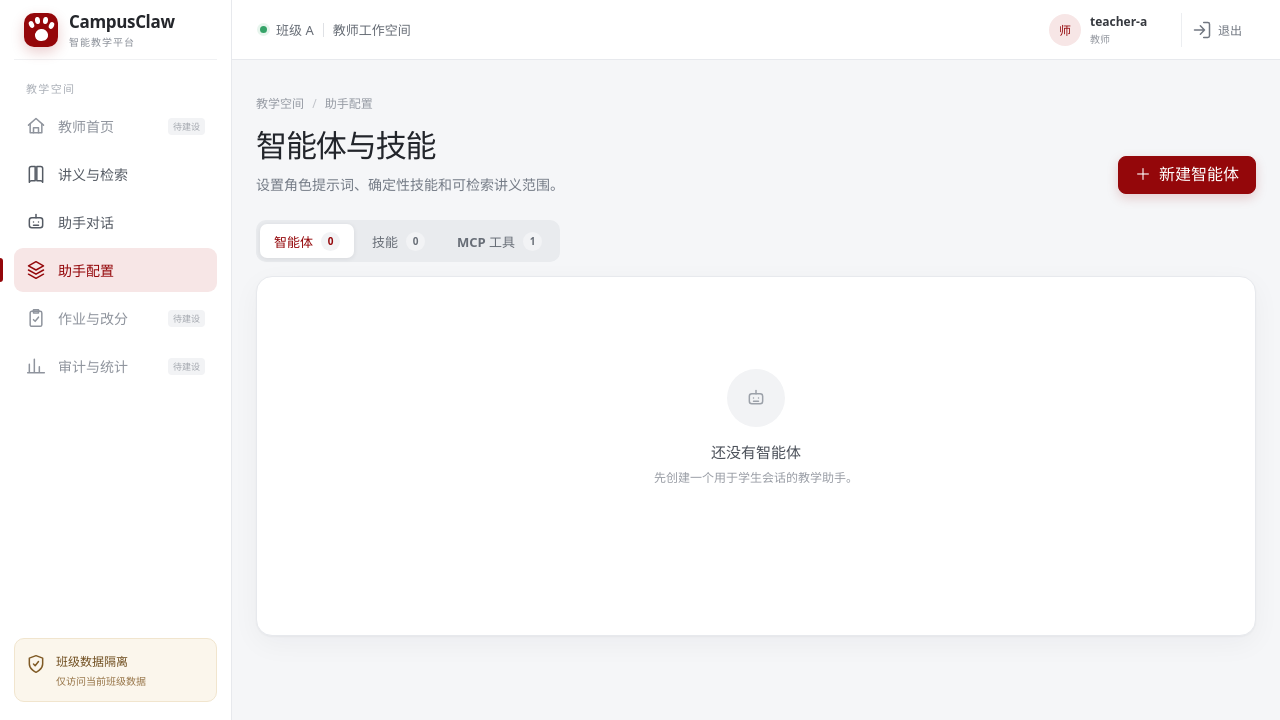
AgentConfigView › separates MCP tools from audit metrics and shows usernames, Chinese tool names, and durations
Click the tab "MCP 工具 1": coordinates (500, 241) [443,224,556,258]
(page scrolled)
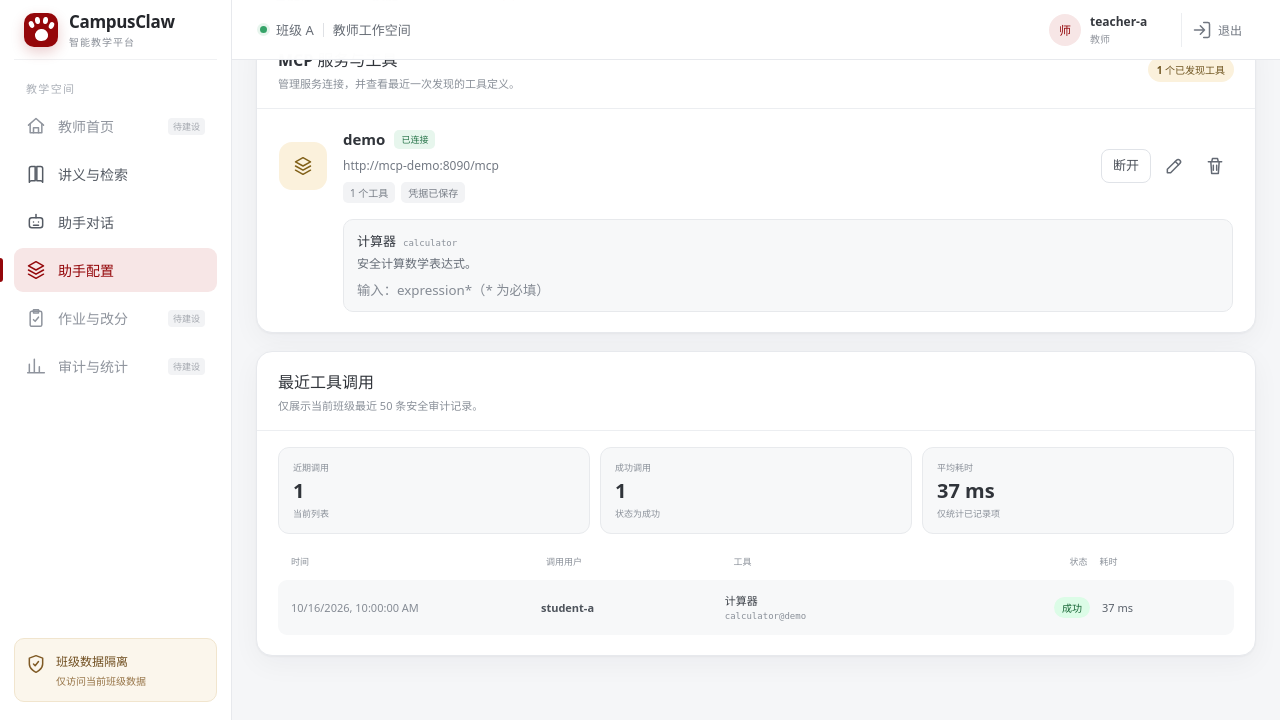
Now the element with class "mcp-services-panel" is shown, box [256,29,1256,333]
Now the element with class "mcp-audit" is shown, box [256,351,1256,656]
Now the text "计算器" is shown, box [357,231,396,250]
